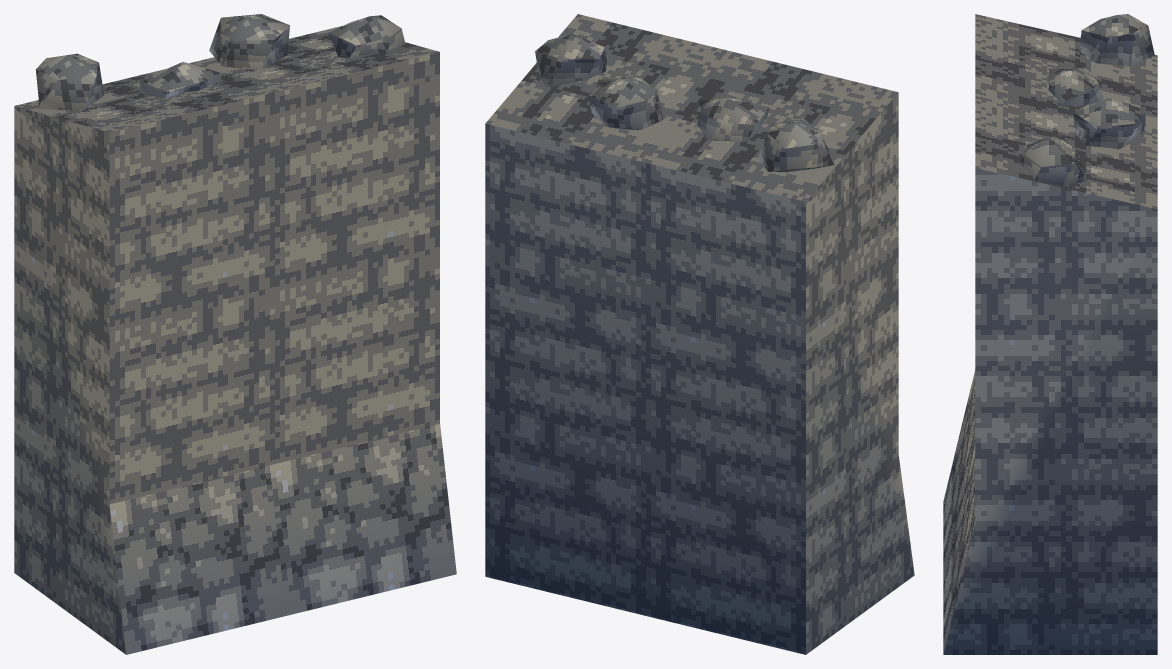
Rendered from cst.curtain__broken.glb.
3 views of the same model, side by side, from view 1: azimuth 30°, elevation 25°; view 2: azimuth 150°, elevation 25°; view 3: azimuth 270°, elevation 25° (orthographic). The views are drawn at different scales.
Visible parts, largest first — view 1: kit_wall, kit_top; view 2: kit_wall, kit_top; view 3: kit_wall, kit_top.
Part boxes in pixels (x1,y1,x2,y2): kit_wall: [14, 26, 456, 654]; kit_top: [35, 14, 405, 110]; kit_wall: [485, 14, 914, 654]; kit_top: [535, 34, 834, 172]; kit_wall: [943, 14, 1157, 654]; kit_top: [1019, 14, 1154, 185].
Size of the model in its own units: 4.03 by 6.08 by 2.35.
Materials: 3 (3 with a texture image).
